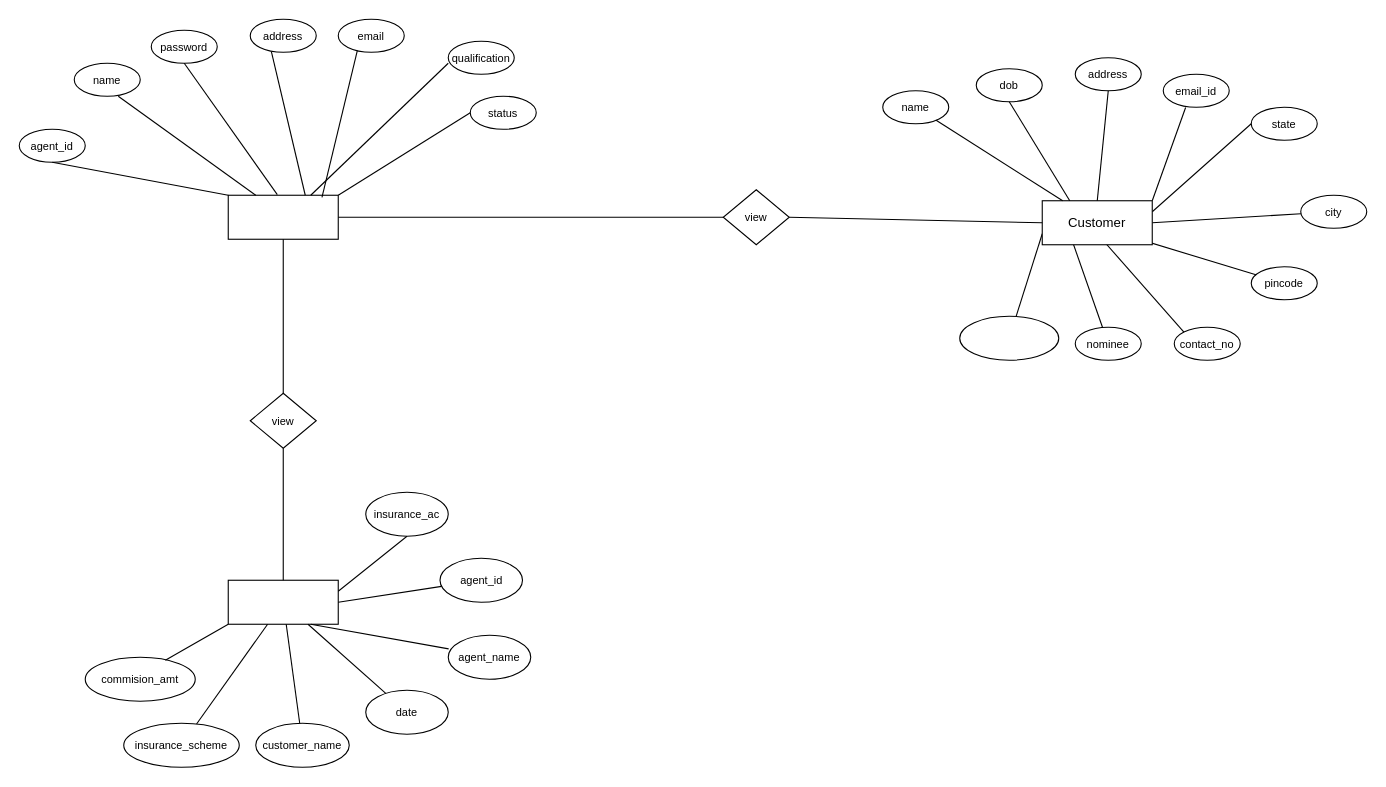
The diagram is 1386 pixels wide and 787 high, and some of its shapes have lost their labels. The shapes that lost their labels are listed below. From the top down, each one's centre as x and y in pixels, then its label:
At (282,216): "Agent".
At (1009,337): "nominee_relation".
At (282,601): "Commision".
